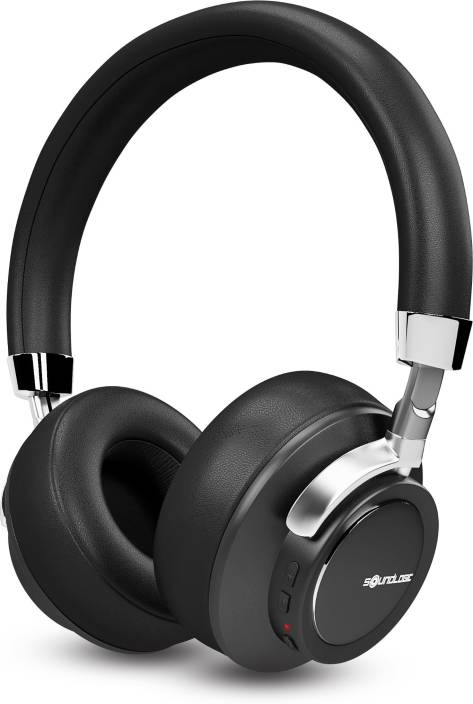Headphone: (5, 1, 473, 694)
